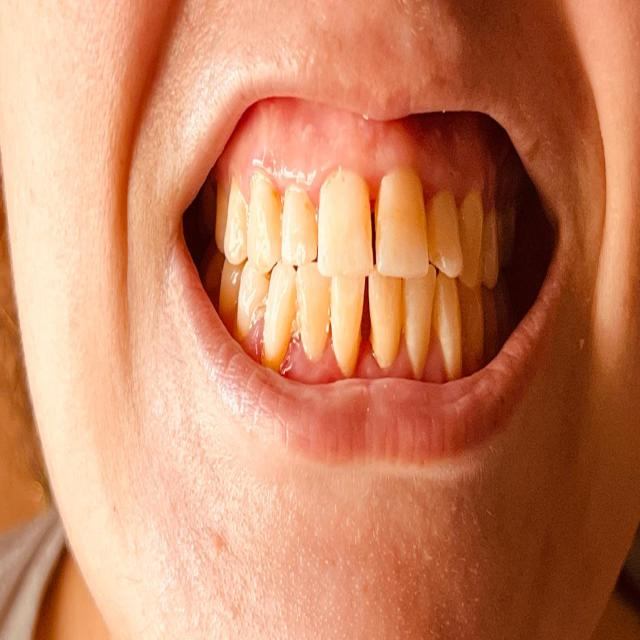tooth: (376, 172, 426, 274), (322, 188, 372, 266), (246, 182, 284, 260), (334, 276, 364, 370), (295, 273, 330, 347), (436, 286, 464, 366), (407, 278, 431, 366), (429, 199, 459, 269), (288, 186, 314, 266), (375, 276, 399, 352), (270, 270, 292, 350), (462, 201, 480, 279), (223, 190, 243, 260), (240, 273, 263, 331), (465, 288, 483, 362), (484, 215, 502, 286), (223, 262, 241, 316)
